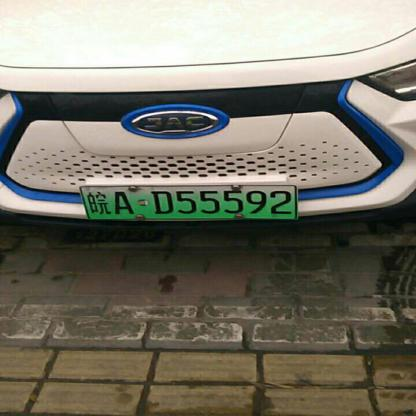lp: (81, 185, 295, 218)
